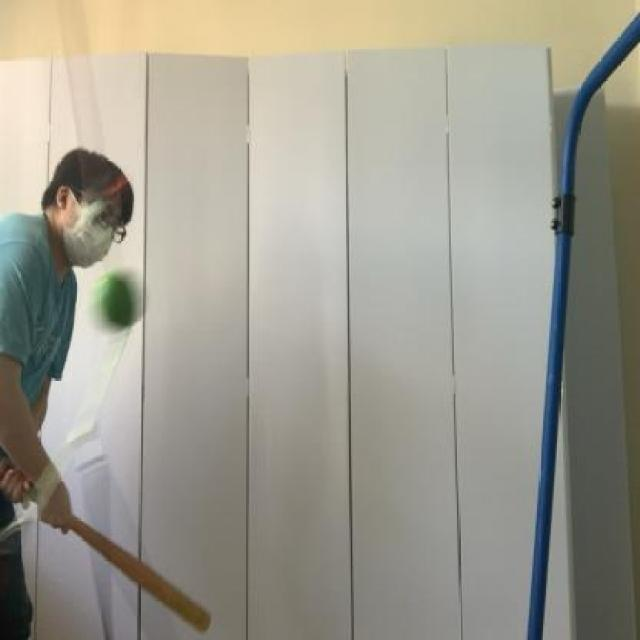baseball: (79, 262, 159, 342)
